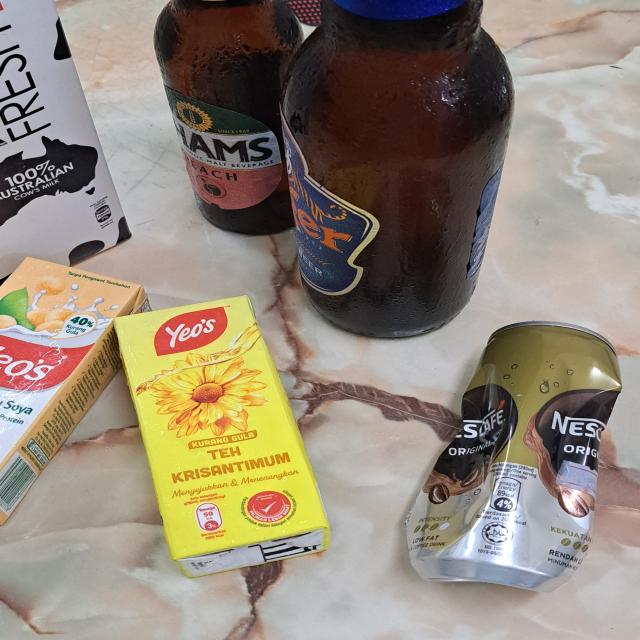can: (409, 319, 621, 590)
drink carton: (115, 296, 331, 576), (0, 258, 149, 528), (0, 0, 132, 285)
glass bottle: (296, 0, 513, 340), (152, 0, 302, 237)
